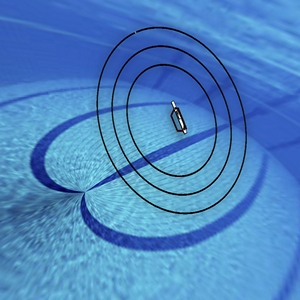circle: (88, 19, 253, 218)
submarine: (158, 94, 192, 138)
